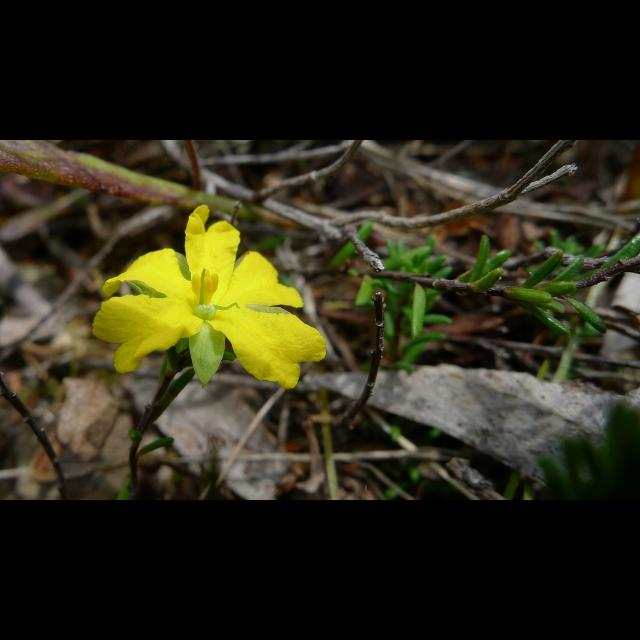Flower: (94, 205, 328, 389)
